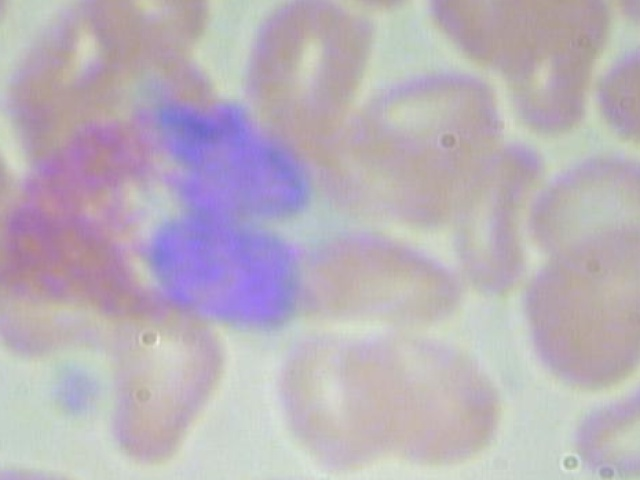Platelets: (45, 362, 102, 422)
RBC: (85, 304, 245, 465), (257, 328, 418, 473), (355, 326, 515, 470), (511, 219, 640, 395), (303, 212, 468, 324), (234, 0, 378, 126), (351, 57, 503, 168), (498, 0, 606, 147), (450, 138, 546, 303), (523, 145, 640, 264), (418, 0, 555, 71), (570, 371, 640, 480), (87, 0, 208, 54), (588, 37, 640, 153), (0, 453, 106, 480), (589, 0, 640, 28)
WBC: (0, 87, 313, 341)
